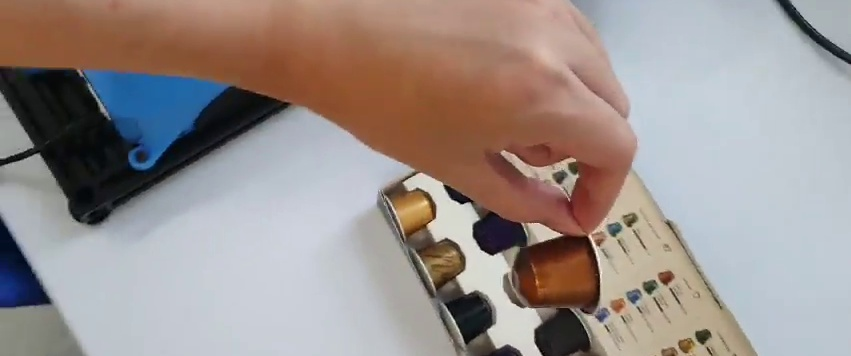capsule_3: (510, 218, 605, 320)
